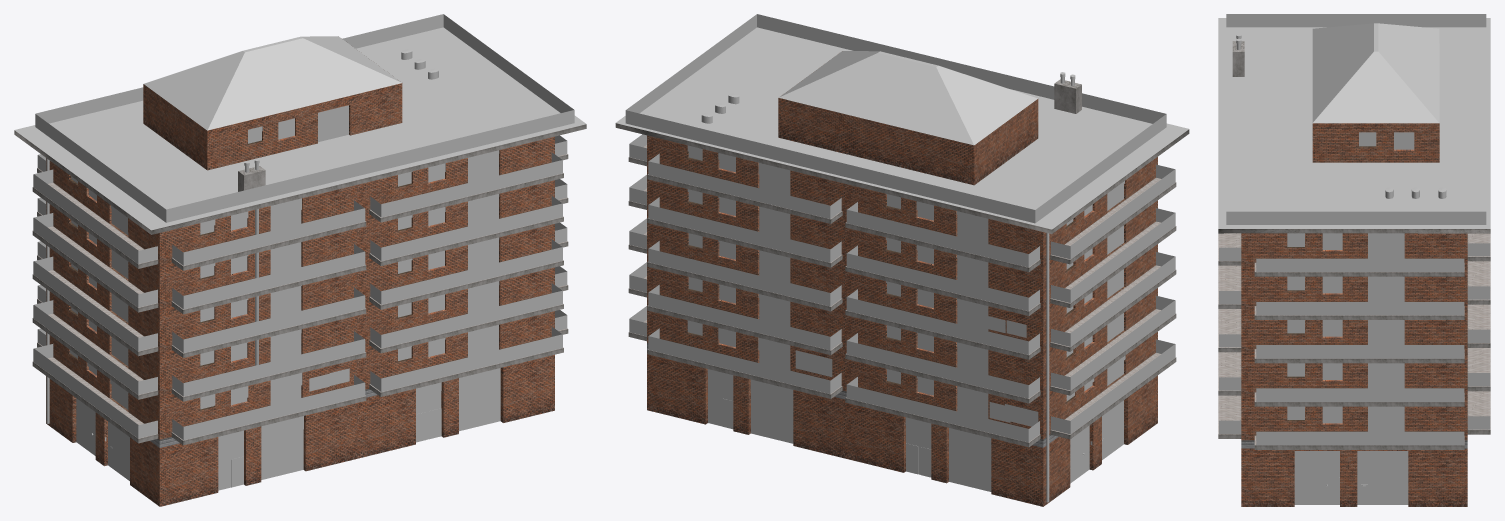
The model's file is building_2_LOD0.FBX.
The picture shows the model from 3 angles, left to right: view 1: azimuth 30°, elevation 25°; view 2: azimuth 150°, elevation 25°; view 3: azimuth 270°, elevation 25°; orthographic projection.
Visible parts, largest first — view 1: building2_lod0, building2_transp_lod0, building2_roof_lod0, building2_details; view 2: building2_lod0, building2_transp_lod0, building2_roof_lod0, building2_details; view 3: building2_lod0, building2_roof_lod0, building2_transp_lod0.
Boxes of the visible parts, x1,y1,x2,y2 form: building2_lod0: (14,83,586,506); building2_transp_lod0: (33,14,574,440); building2_roof_lod0: (14,27,586,230); building2_details: (91,382,441,487); building2_lod0: (615,72,1189,506); building2_transp_lod0: (625,14,1175,442); building2_roof_lod0: (616,27,1188,229); building2_details: (707,369,1105,477); building2_lod0: (1218,34,1490,506); building2_roof_lod0: (1218,18,1490,228); building2_transp_lod0: (1219,14,1490,445).
Bounding box in the file's own units: 3438 × 2781 × 1876.
